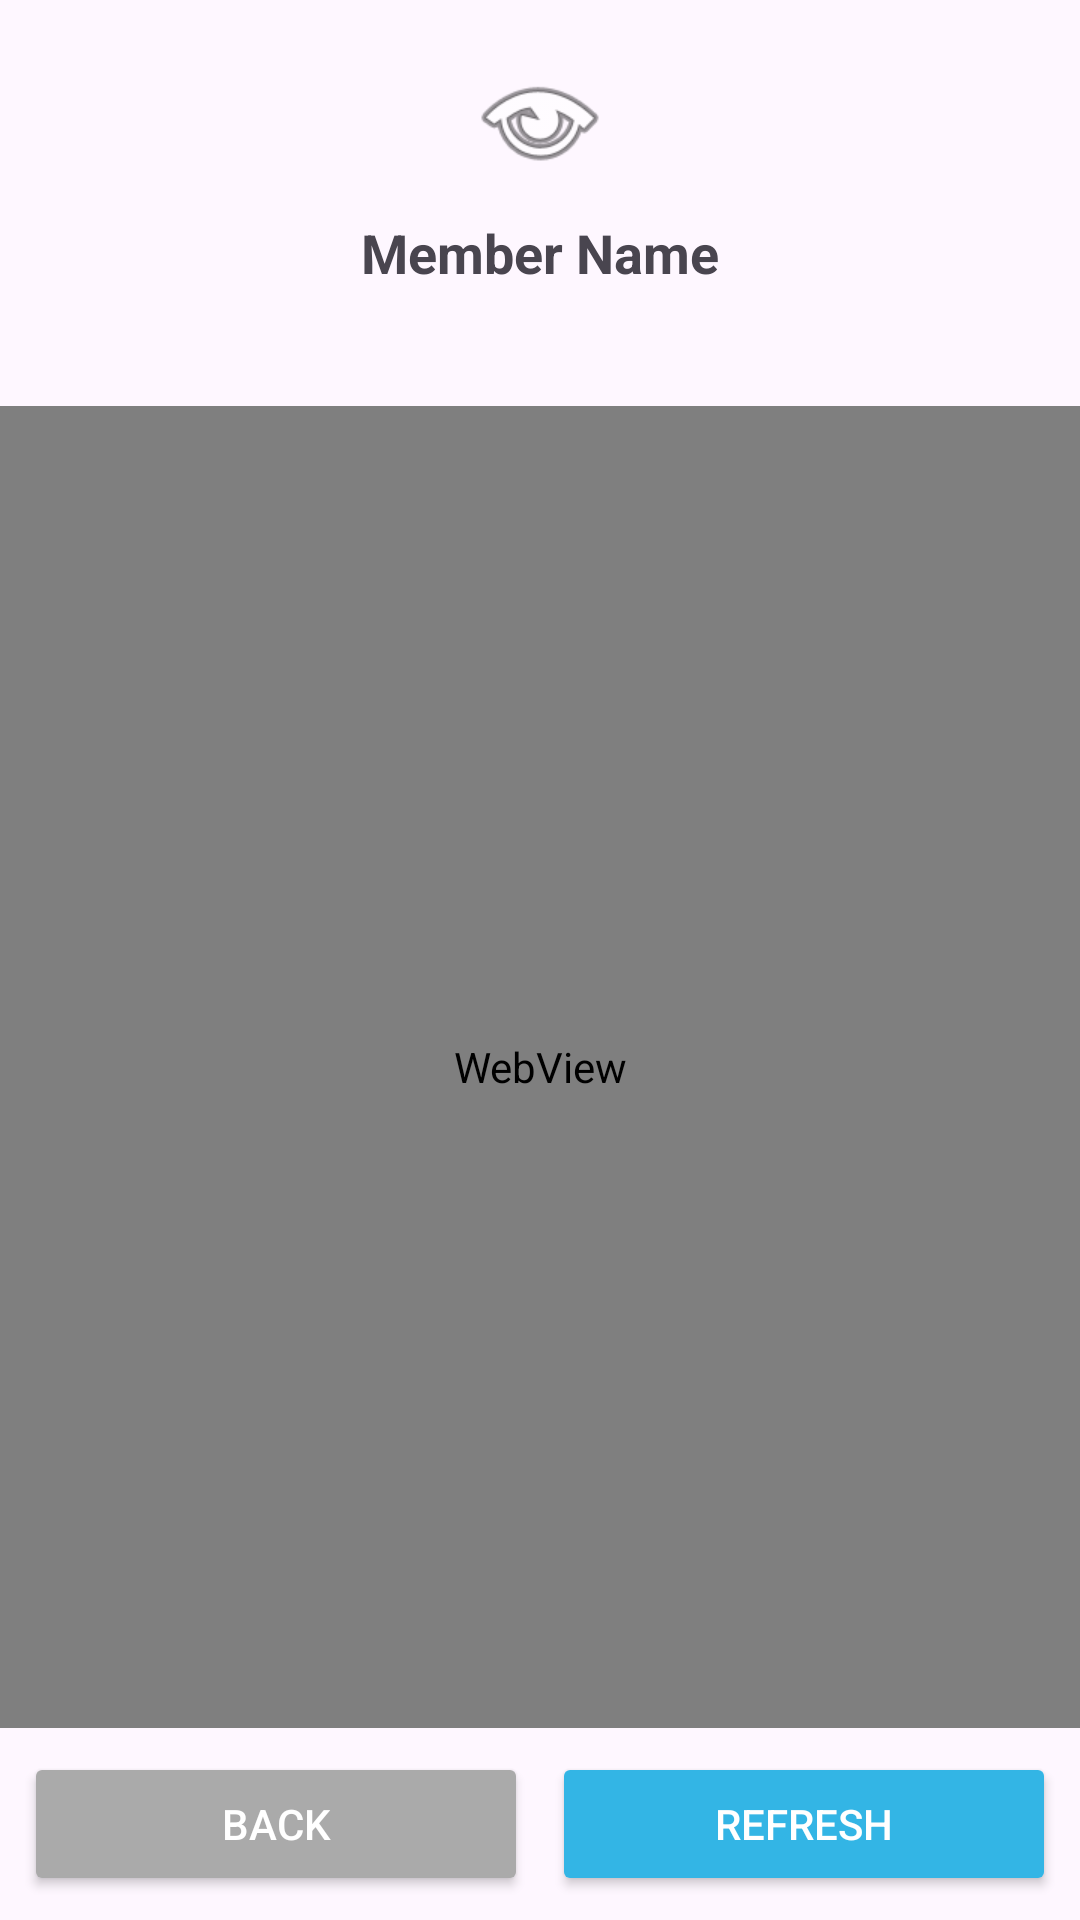

Where to tap for icons on this 1080px×1920px app screen, as [x,y]:
view: [540,124]
